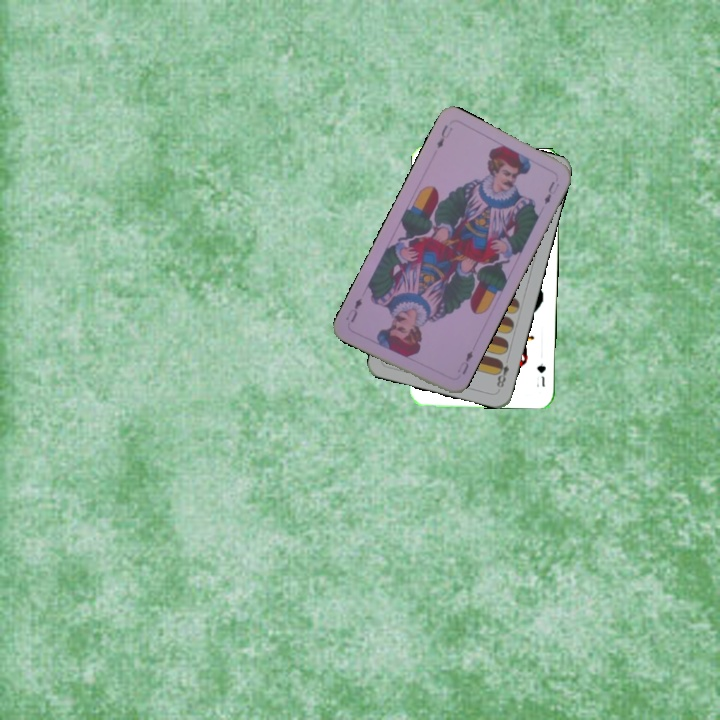E8: (492, 356, 512, 390)
EU: (453, 347, 475, 377), (433, 121, 452, 151)
GU: (533, 359, 548, 390)
